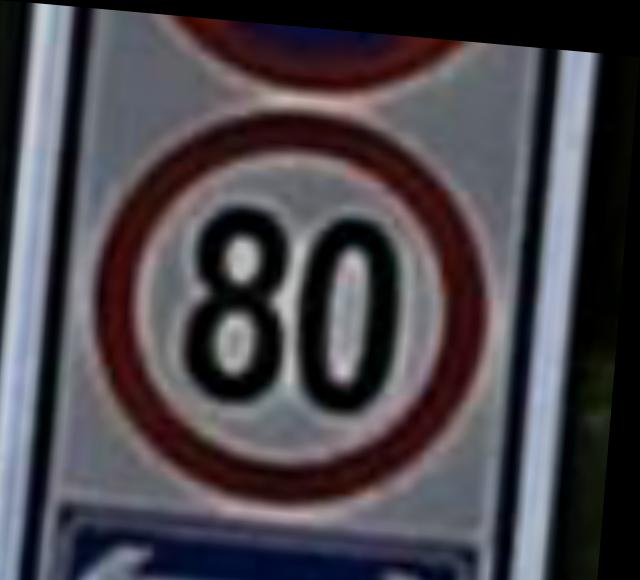limit80: (80, 86, 518, 514)
